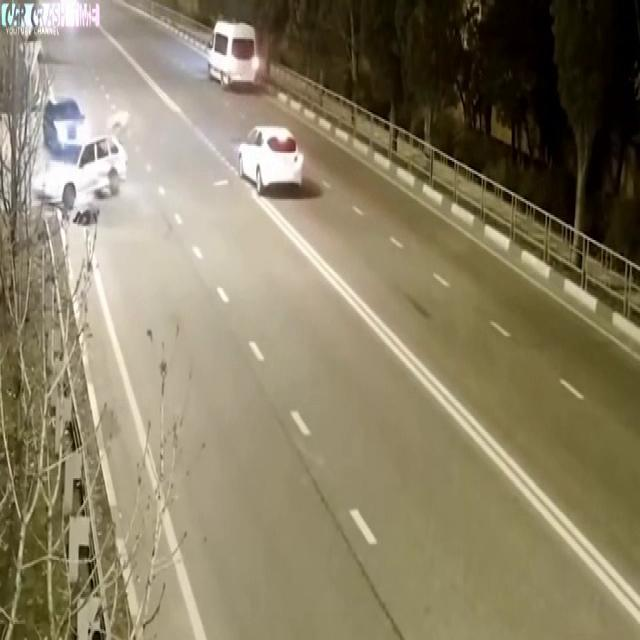accident: (36, 116, 156, 225)
